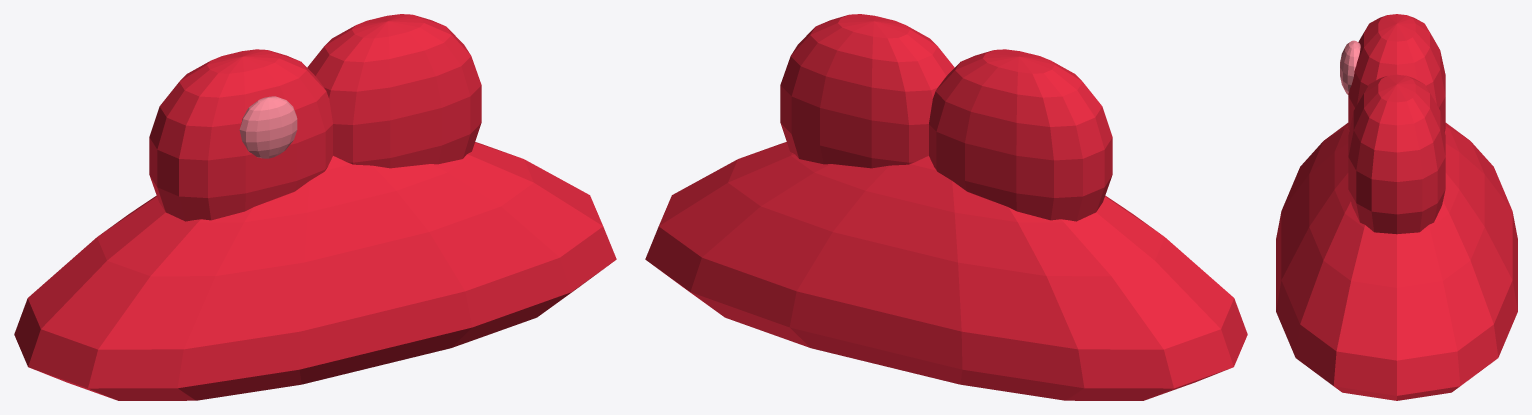
The model's file is heart.glb.
3 views of the same model, side by side, from view 1: azimuth 30°, elevation 25°; view 2: azimuth 150°, elevation 25°; view 3: azimuth 270°, elevation 25° (orthographic). The views are drawn at different scales.
Parts seen in each view (by area): view 1: heart; view 2: heart; view 3: heart.
Boxes of the visible parts, <box> form: heart: <box>14,14,616,400</box>; heart: <box>645,14,1247,400</box>; heart: <box>1276,14,1517,400</box>.
Size of the model in its own units: 0.7936 by 0.4 by 0.337.
